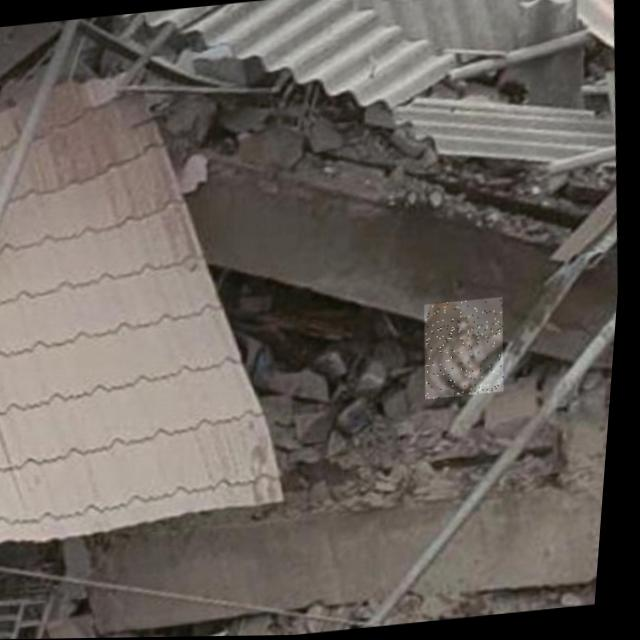Person in Rubble: (423, 298, 515, 400)
